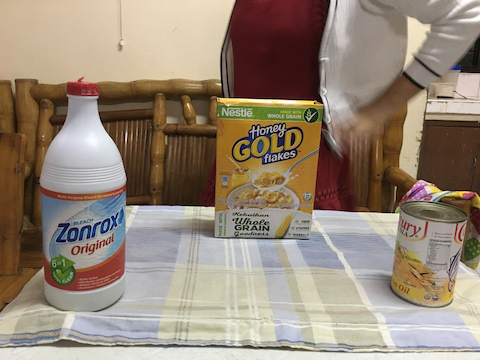bottle: (36, 76, 138, 315)
box: (206, 91, 329, 241)
can: (388, 198, 469, 309)
